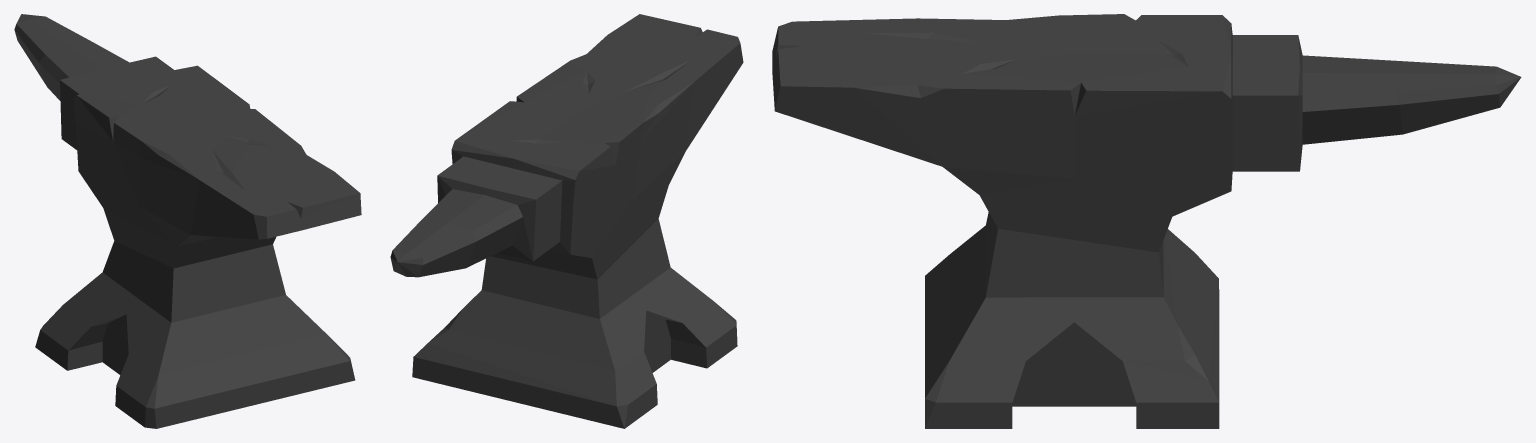
The model's file is Anvil.gltf.
3 renders of one model, left to right at view 1: azimuth 30°, elevation 25°; view 2: azimuth 150°, elevation 25°; view 3: azimuth 270°, elevation 25°, orthographic. The views are drawn at different scales.
Parts seen in each view (by area): view 1: Anvil2; view 2: Anvil2; view 3: Anvil2.
Boxes of the visible parts, x1,y1,x2,y2 form: Anvil2: (14, 14, 361, 428); Anvil2: (390, 14, 743, 428); Anvil2: (772, 14, 1521, 428).
Size of the model in its own units: 0.1961 by 0.2193 by 0.4781.
Materials: 1 (1 with a texture image).
